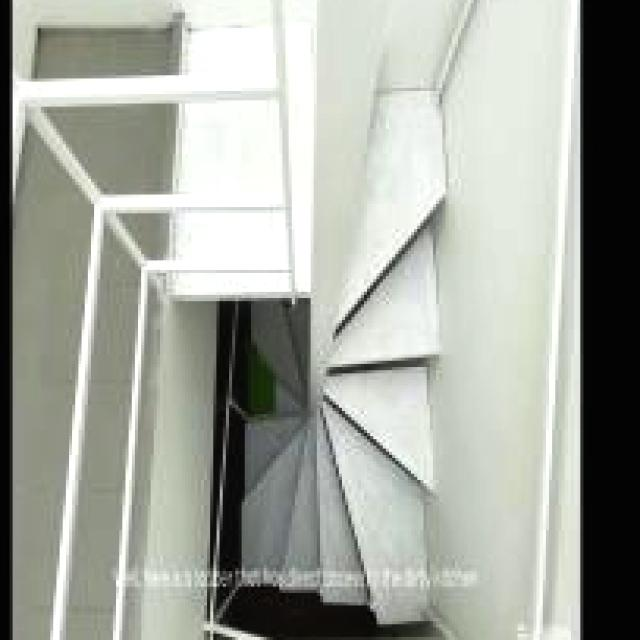downstair: (355, 193, 456, 629)
